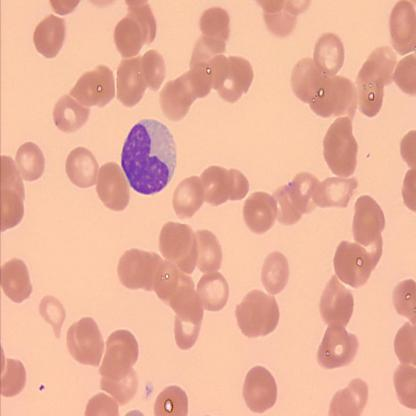Atypical lymphocyte: (121, 118, 178, 197)
